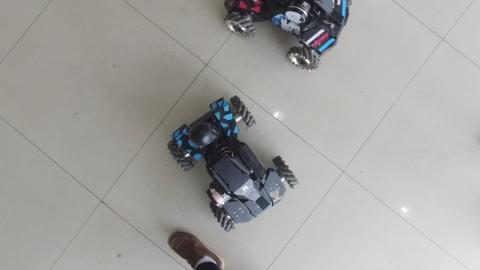chariot: (161, 86, 306, 241), (216, 1, 361, 75)
